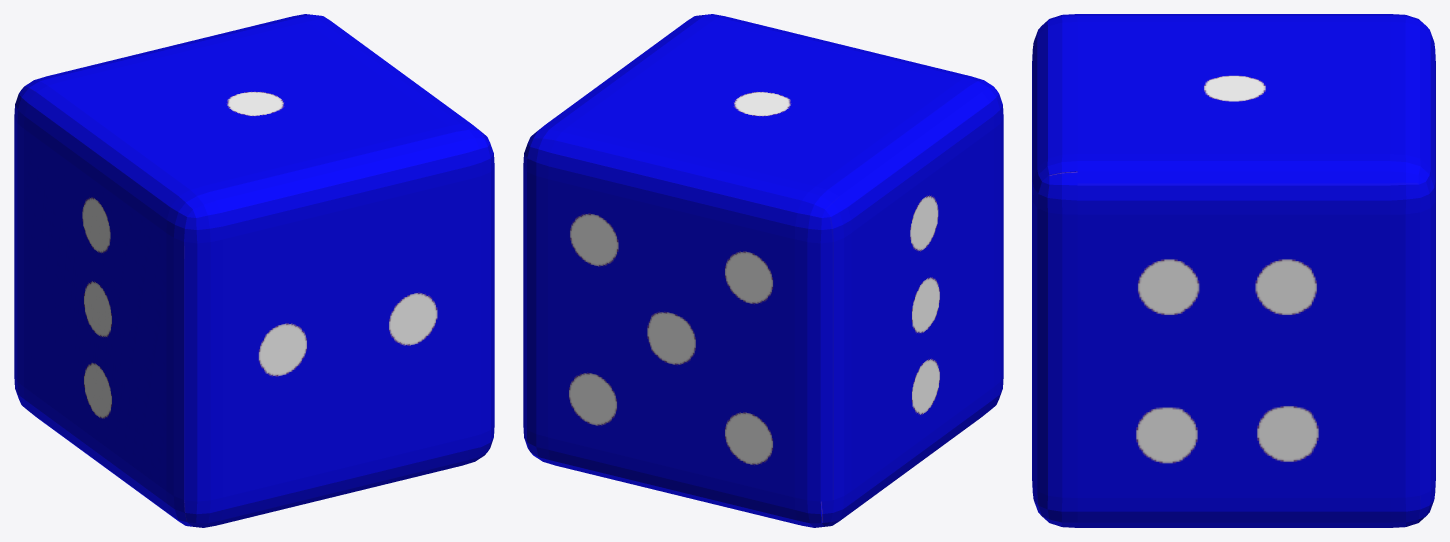
The model's file is Dado2.fbx.
3 views of the same model, side by side, from view 1: azimuth 30°, elevation 25°; view 2: azimuth 150°, elevation 25°; view 3: azimuth 270°, elevation 25° (orthographic). The views are drawn at different scales.
Parts seen in each view (by area): view 1: Dice; view 2: Dice; view 3: Dice.
Boxes of the visible parts, x1,y1,x2,y2 form: Dice: (14, 14, 494, 527); Dice: (523, 14, 1003, 527); Dice: (1032, 14, 1435, 527).
Bounding box in the file's own units: 200 × 200 × 200.
1 material, 1 textured.
